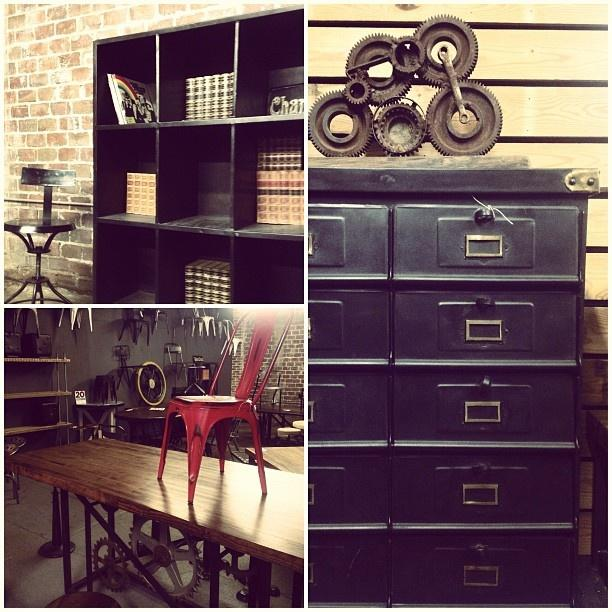Filing Cabinet: (307, 166, 600, 611)
